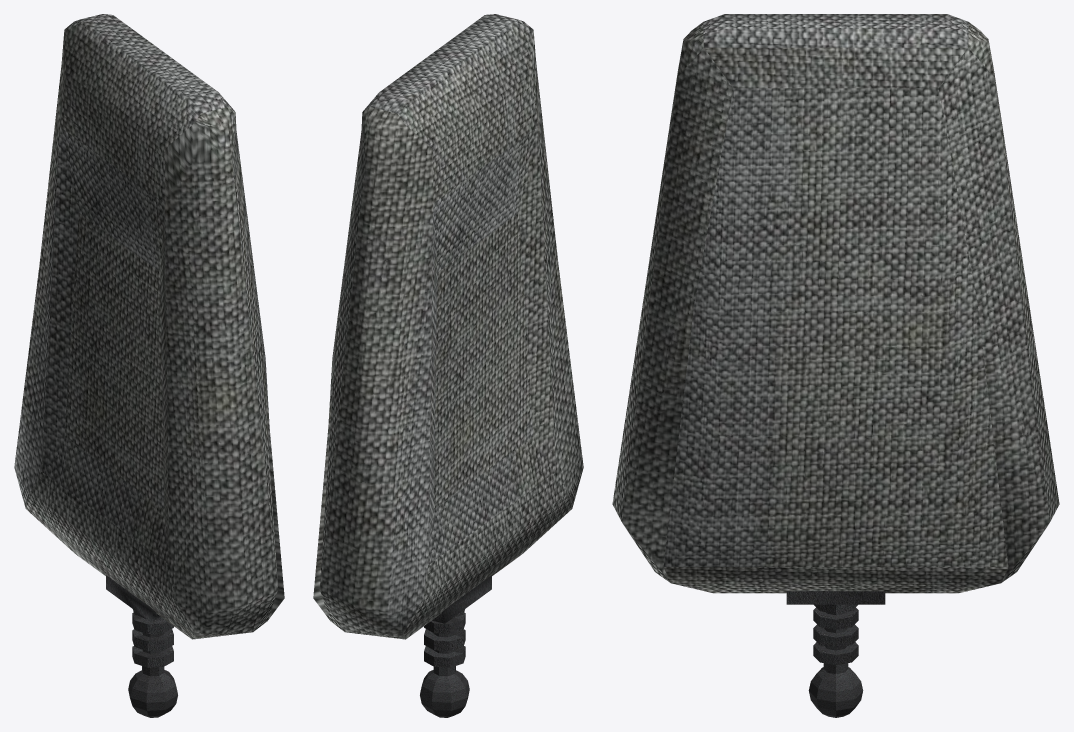
The model's file is ChairBack_1.fbx.
3 views of the same model, side by side, from view 1: azimuth 30°, elevation 25°; view 2: azimuth 150°, elevation 25°; view 3: azimuth 270°, elevation 25° (orthographic). The views are drawn at different scales.
Parts seen in each view (by area): view 1: ChairBack_1; view 2: ChairBack_1; view 3: ChairBack_1.
Boxes of the visible parts, x1,y1,x2,y2 form: ChairBack_1: (14,14,284,717); ChairBack_1: (313,14,583,717); ChairBack_1: (612,14,1059,717).
Size of the model in its own units: 67.35 by 11.88 by 39.4.
